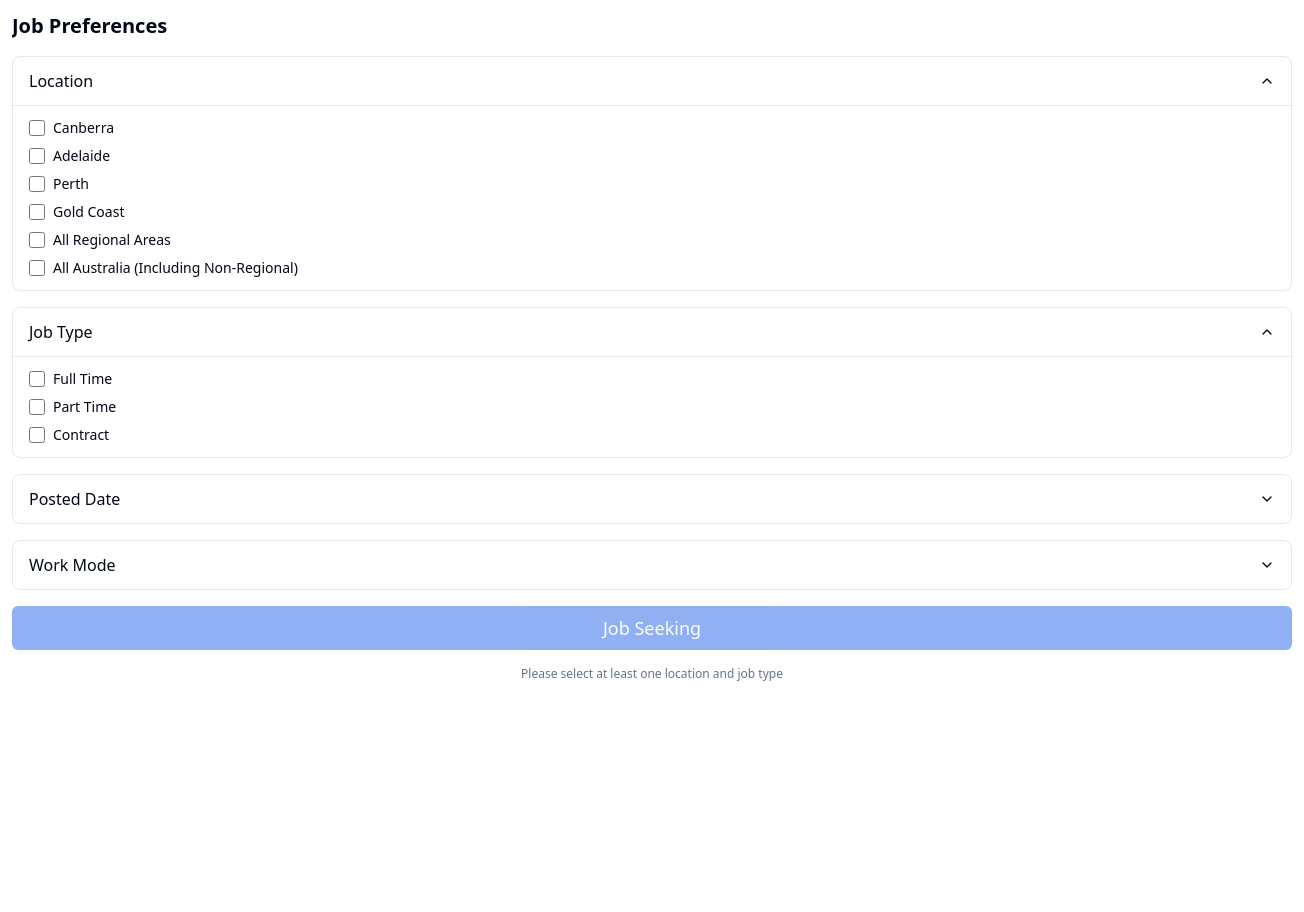
Test: JobFilterPanel › 应该渲染所有发布时间选项
Note: Open Posted Date section first
What coordinates should you click on to do the following:
click the button "Posted Date"
I would click on:
 (75, 499)
Its box is [13, 475, 1291, 523].
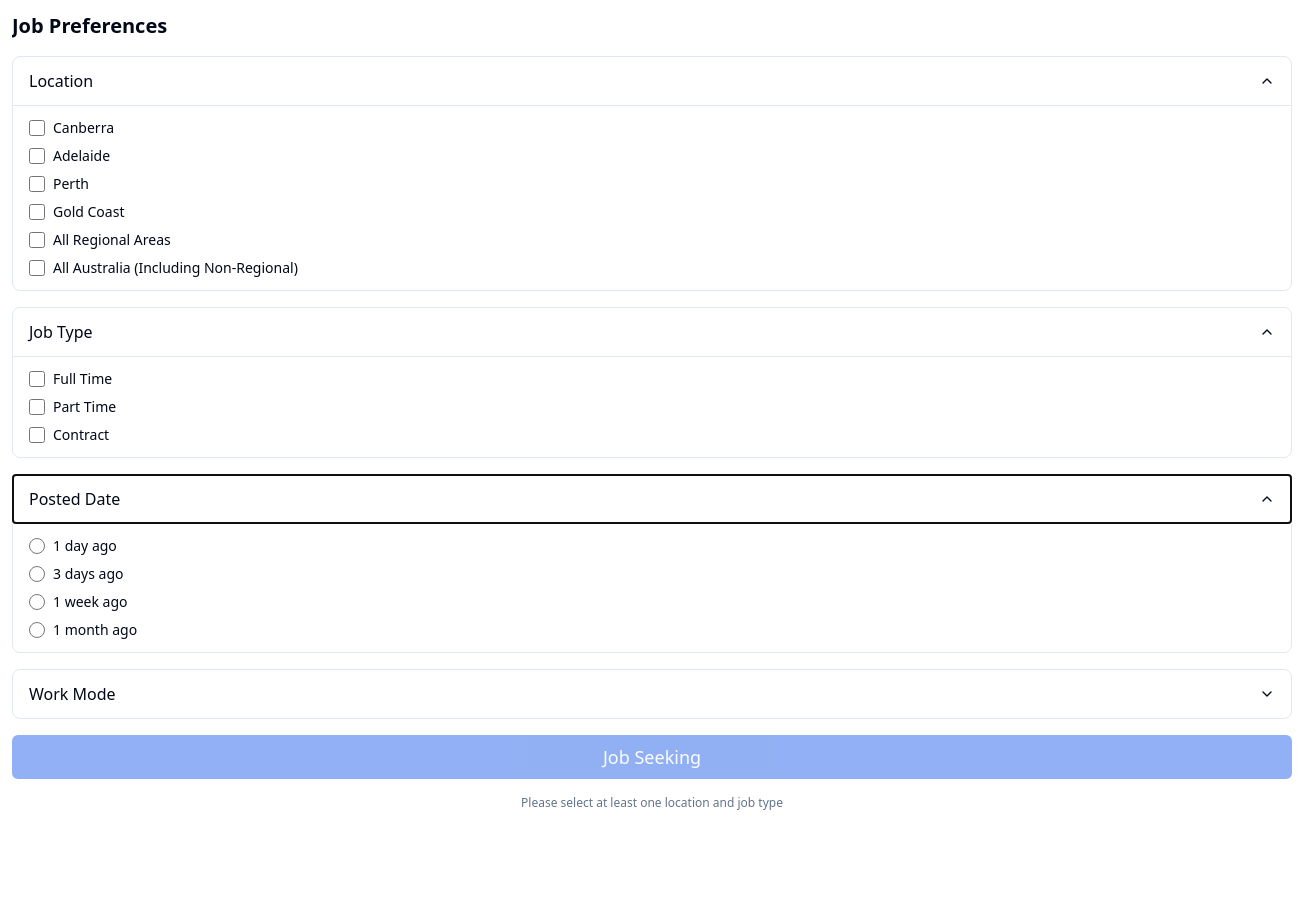
Expected: the radio button labelled "1 day ago" is shown, [29, 538, 45, 554]
Expected: the radio button labelled "3 days ago" is shown, [29, 566, 45, 582]
Expected: the radio button labelled "1 week ago" is shown, [29, 594, 45, 610]
